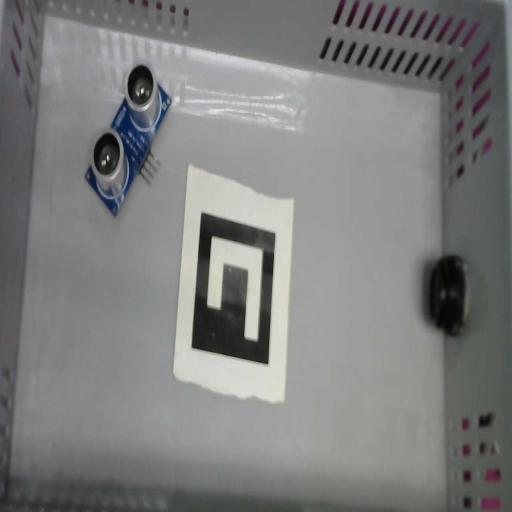QR: (172, 164, 295, 404)
ultrasonic_hc-sr04: (84, 60, 172, 217)
